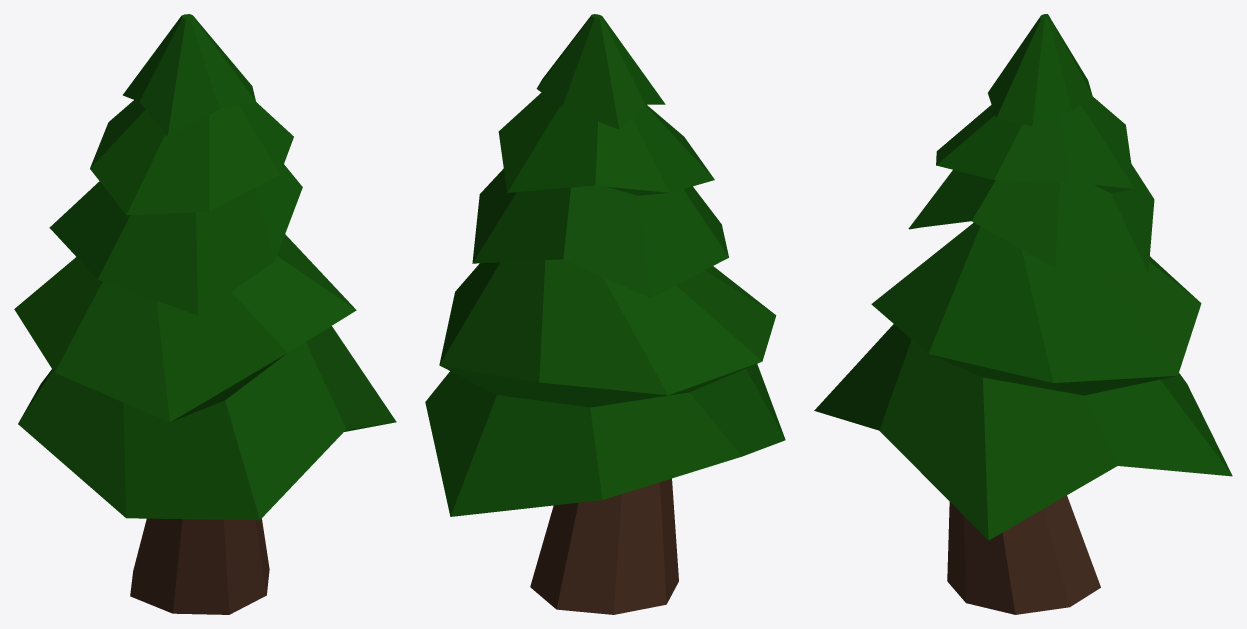
File: pine_tree.glb
3 renders of one model, left to right at view 1: azimuth 30°, elevation 25°; view 2: azimuth 150°, elevation 25°; view 3: azimuth 270°, elevation 25°, orthographic. The views are drawn at different scales.
Visible parts, largest first — view 1: pine_tree; view 2: pine_tree; view 3: pine_tree.
Part boxes in pixels (x1,y1,x2,y2): pine_tree: (14, 14, 396, 614); pine_tree: (425, 14, 785, 614); pine_tree: (814, 14, 1232, 614).
Size of the model in its own units: 2.34 by 3.74 by 2.5.
1 material, 1 textured.
